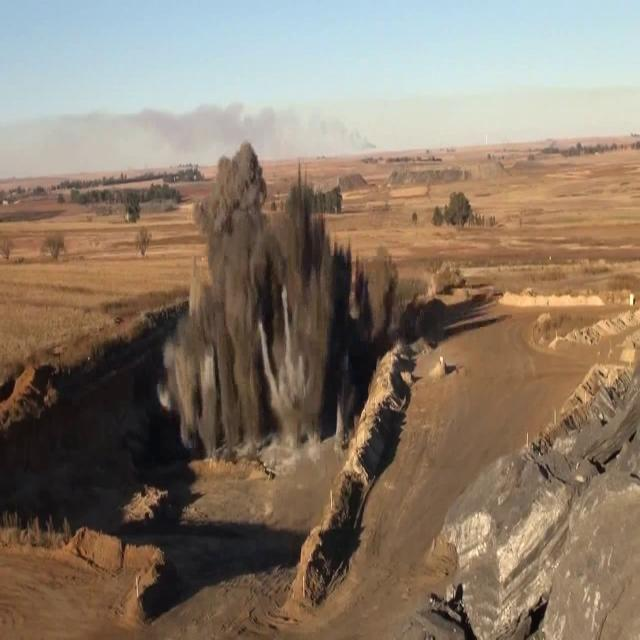explosion: (164, 104, 394, 495)
